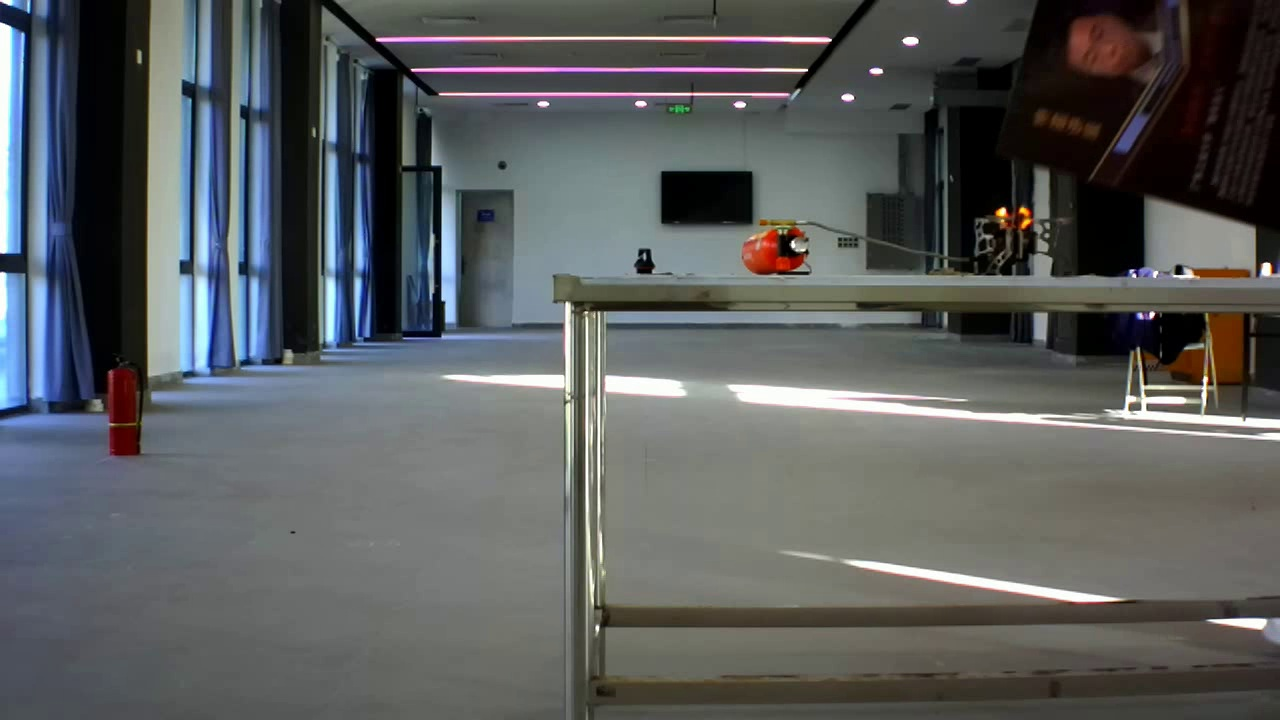Fire: (995, 196, 1034, 235)
